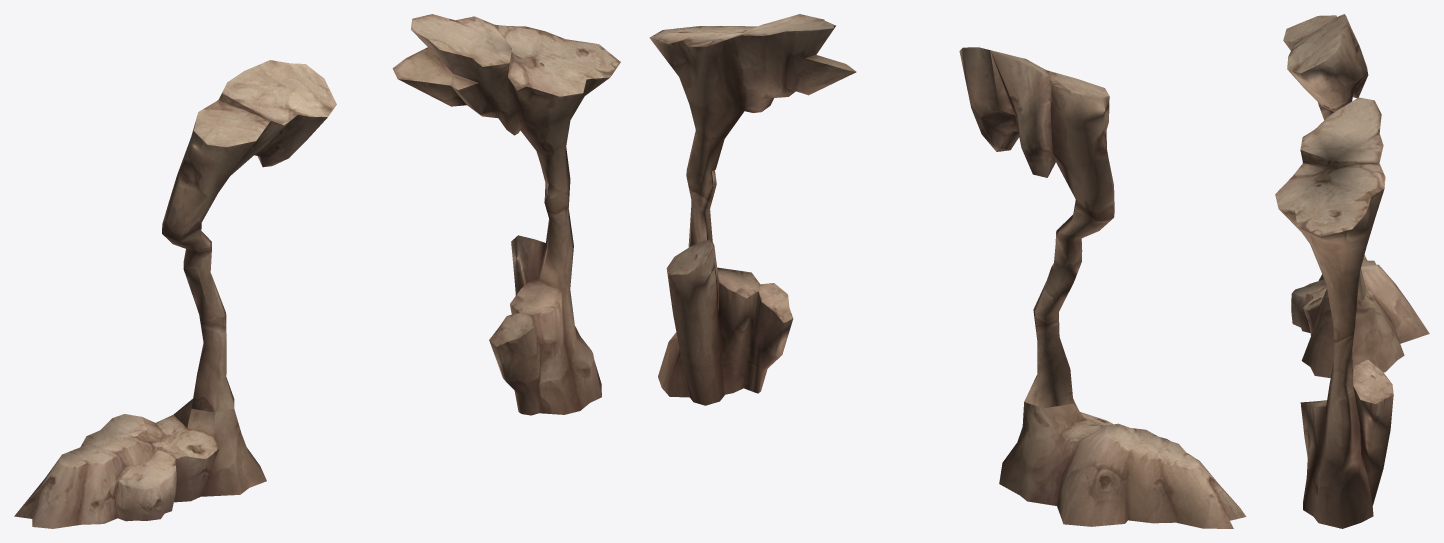
The model's file is stone_men02.FBX.
The picture shows the model from 3 angles, left to right: view 1: azimuth 30°, elevation 25°; view 2: azimuth 150°, elevation 25°; view 3: azimuth 270°, elevation 25°; orthographic projection. The views are drawn at different scales.
Parts seen in each view (by area): view 1: Box01; view 2: Box01; view 3: Box01.
Boxes of the visible parts, x1,y1,x2,y2 form: Box01: [14, 14, 620, 528]; Box01: [649, 14, 1246, 528]; Box01: [1275, 14, 1429, 528].
Size of the model in its own units: 851 by 561 by 218.
